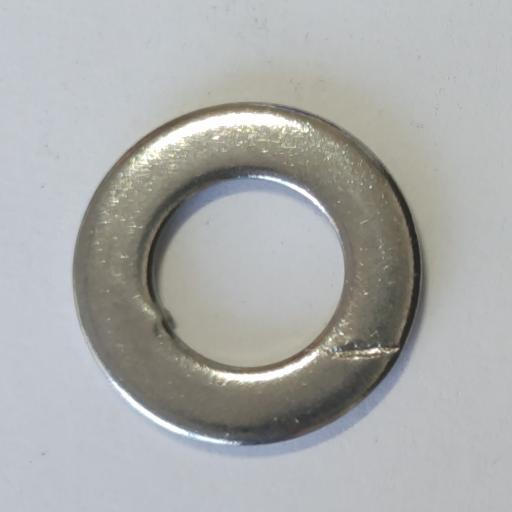scratch: (328, 343, 400, 360)
